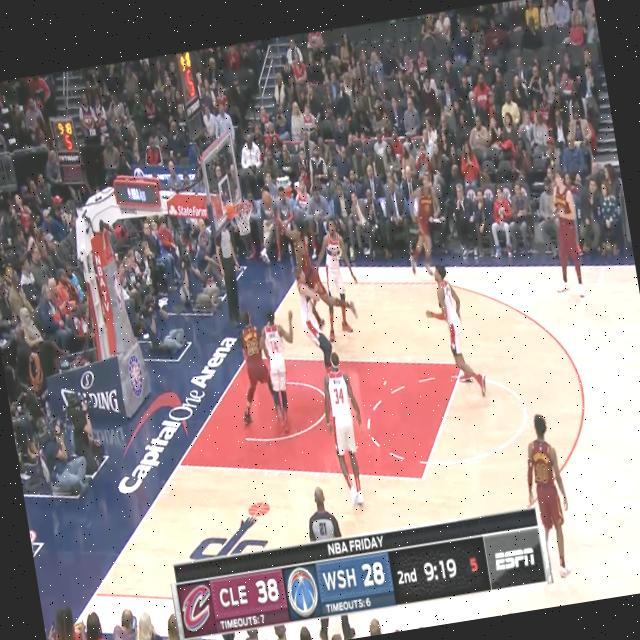foul: (260, 194, 358, 398)
no foul: (299, 334, 388, 522), (216, 285, 298, 430), (316, 207, 378, 346)
